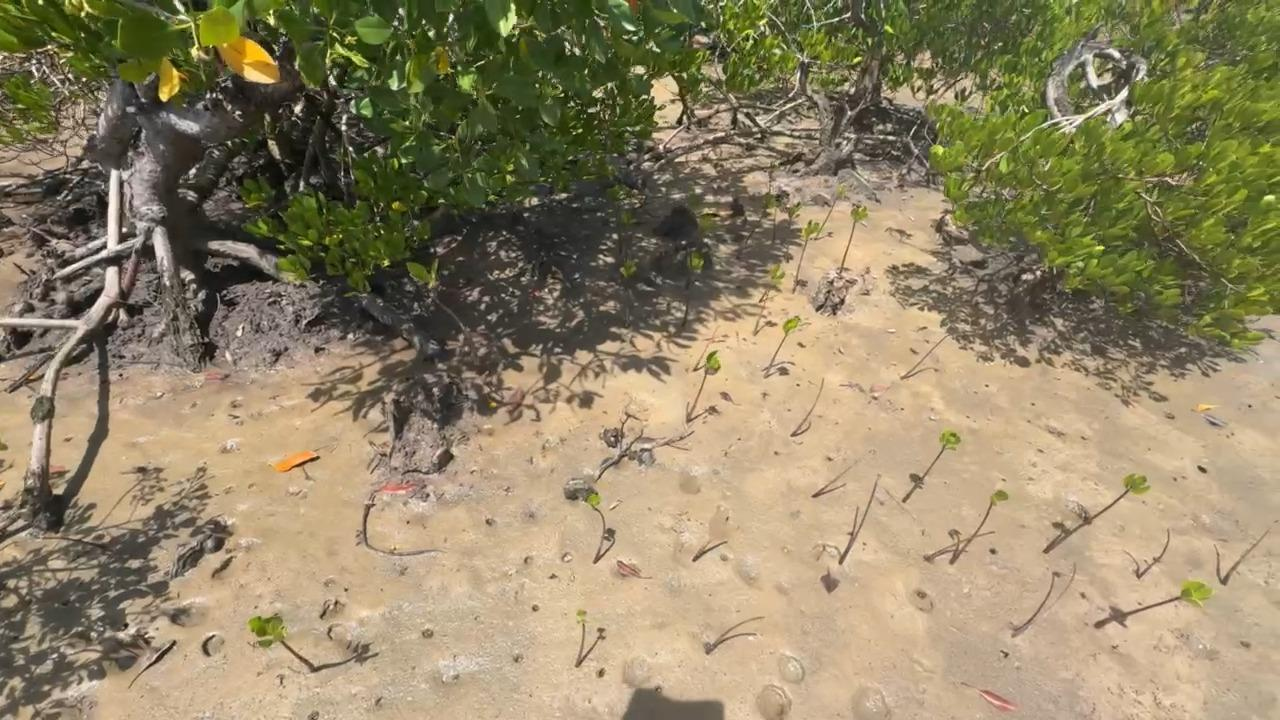Tree: (248, 613, 316, 671), (1014, 569, 1062, 629), (1128, 581, 1214, 614), (1092, 473, 1151, 517), (686, 350, 720, 422), (924, 527, 995, 560), (764, 315, 800, 377), (792, 220, 821, 289), (922, 429, 961, 479), (839, 204, 867, 273), (745, 191, 776, 249), (972, 489, 1007, 536), (683, 250, 704, 327), (1139, 527, 1170, 575), (839, 504, 859, 565), (581, 488, 607, 532), (621, 261, 638, 327), (758, 262, 785, 302), (786, 201, 801, 261), (575, 609, 590, 668), (1213, 544, 1225, 583)
